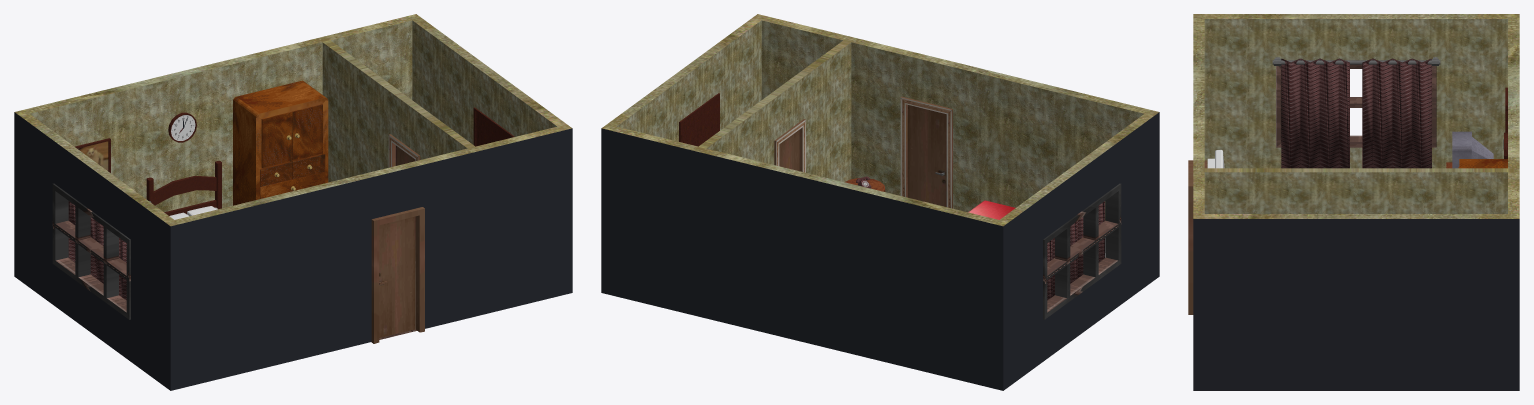
Rendered from quarto teste 10fbx.fbx.
3 views of the same model, side by side, from view 1: azimuth 30°, elevation 25°; view 2: azimuth 150°, elevation 25°; view 3: azimuth 270°, elevation 25° (orthographic). The views are drawn at different scales.
Parts seen in each view (by area): view 1: Chão e Paredes, Frame da janela, Armário, Porta, Frame Porta, Madeira da cama, Porta Armário Esuqerda, Porta Armário. Direita, Cortina Direita, Espelho, Gaveta 3, Relógio (+3 smaller); view 2: Chão e Paredes, Frame da janela, Porta, Frame Porta, Espelho, Cortina Esquerda, Frame Porta Banheiro, Porta do banheiro, Frigobar; view 3: Chão e Paredes, Cortina Direita, Cortina Esquerda, Frame da janela, Frame Porta, TV, Armário, Barra da cortina.
Boxes of the visible parts, x1,y1,x2,y2 form: Chão e Paredes: [14, 14, 572, 390]; Frame da janela: [52, 183, 130, 319]; Armário: [233, 80, 328, 205]; Porta: [379, 216, 415, 337]; Frame Porta: [371, 207, 424, 343]; Madeira da cama: [146, 160, 221, 215]; Porta Armário Esuqerda: [261, 111, 292, 167]; Porta Armário. Direita: [292, 104, 322, 160]; Cortina Direita: [68, 201, 103, 283]; Espelho: [473, 107, 514, 146]; Gaveta 3: [260, 171, 325, 198]; Relógio: [168, 112, 196, 142]; Chão e Paredes: [601, 14, 1159, 390]; Frame da janela: [1043, 183, 1121, 319]; Porta: [907, 105, 946, 206]; Frame Porta: [900, 96, 952, 208]; Espelho: [679, 93, 719, 146]; Cortina Esquerda: [1070, 201, 1104, 283]; Frame Porta Banheiro: [774, 119, 805, 172]; Porta do banheiro: [779, 130, 799, 171]; Frigobar: [968, 200, 1015, 219]; Chão e Paredes: [1193, 14, 1519, 390]; Cortina Direita: [1362, 58, 1431, 168]; Cortina Esquerda: [1281, 58, 1349, 168]; Frame da janela: [1276, 64, 1436, 147]; Frame Porta: [1188, 160, 1207, 314]; TV: [1452, 131, 1493, 168]; Armário: [1459, 159, 1507, 168]; Barra da cortina: [1272, 60, 1440, 64].
Bounding box in the file's own units: 769 × 301 × 524.
23 materials, 21 textured.
